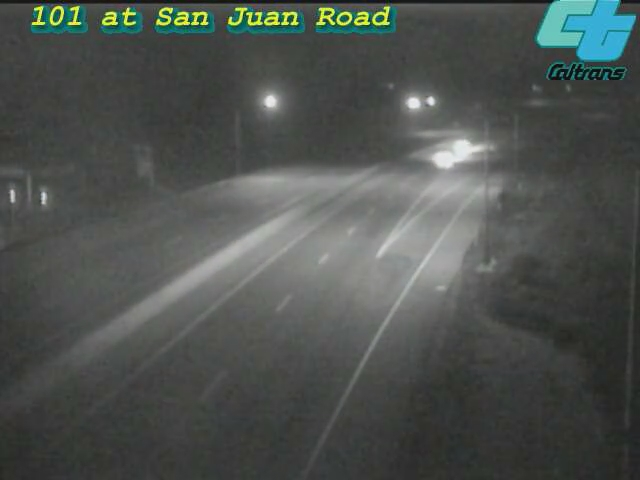vehicle: (436, 122, 486, 172), (419, 133, 469, 183)
